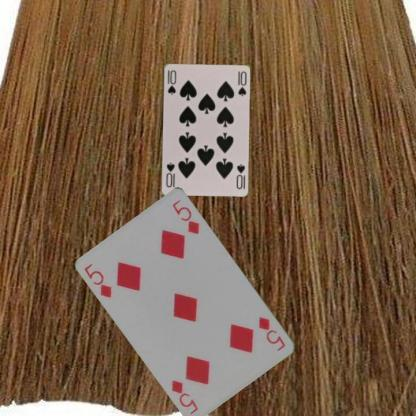10s: (234, 161, 246, 190), (165, 67, 177, 95)
5d: (81, 261, 114, 299), (256, 314, 287, 352)
